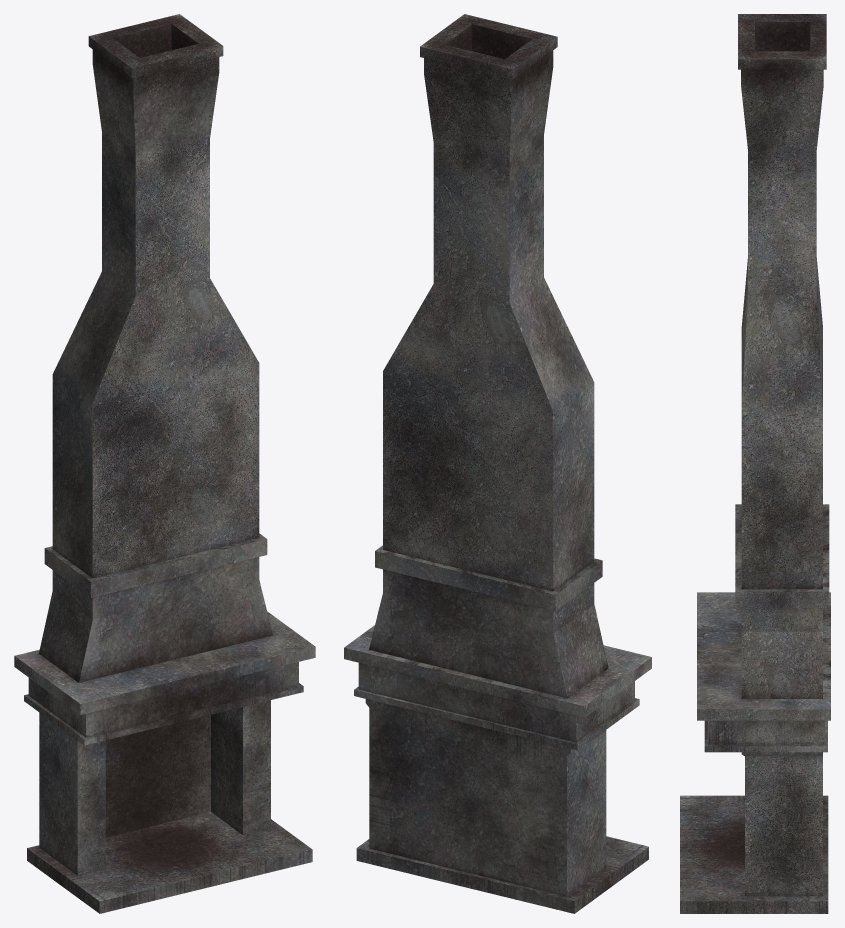
Rendered from Hearth.glb.
The picture shows the model from 3 angles, left to right: view 1: azimuth 30°, elevation 25°; view 2: azimuth 150°, elevation 25°; view 3: azimuth 270°, elevation 25°; orthographic projection. The views are drawn at different scales.
Visible parts, largest first — view 1: Chimney, Hearth; view 2: Chimney, Hearth; view 3: Chimney, Hearth.
Boxes of the visible parts, box(x1,y1,x2,y2) form: Chimney: box(52, 14, 259, 578); Hearth: box(14, 533, 315, 913); Chimney: box(383, 14, 594, 591); Hearth: box(344, 545, 651, 913); Chimney: box(738, 14, 826, 589); Hearth: box(680, 504, 830, 913).
Bounding box in the file's own units: 2.46 × 8.1 × 1.34.
Materials: 3 (3 with a texture image).
